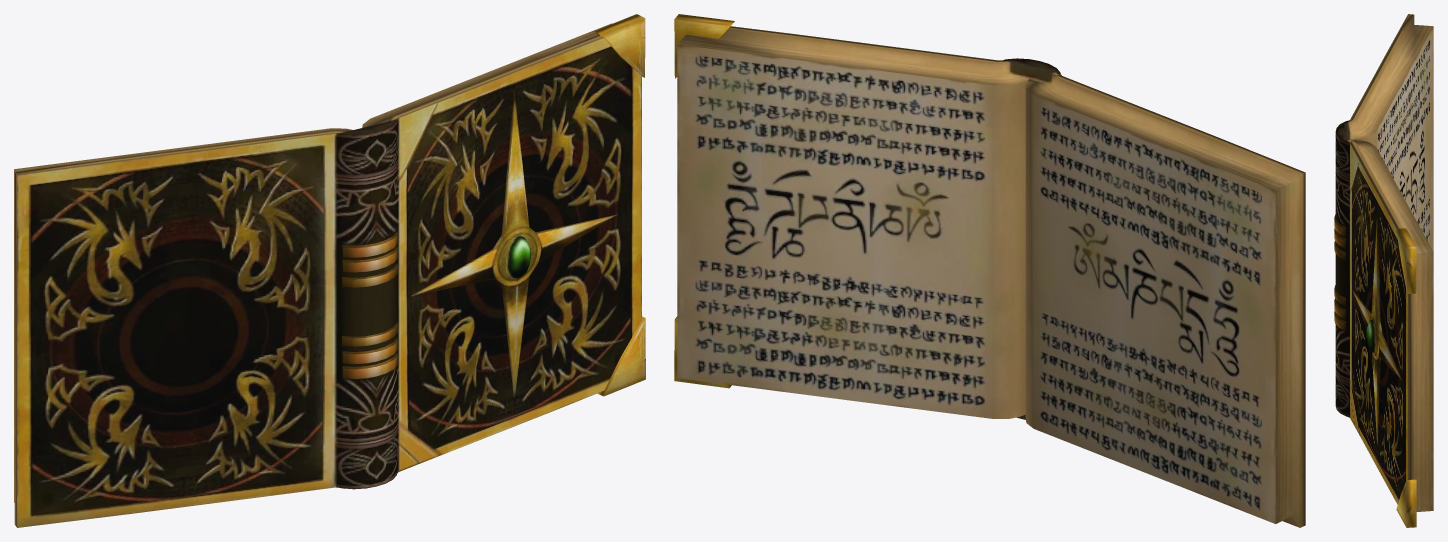
File: card_goldheart_tome.glb
3 renders of one model, left to right at view 1: azimuth 30°, elevation 25°; view 2: azimuth 150°, elevation 25°; view 3: azimuth 270°, elevation 25°, orthographic. The views are drawn at different scales.
Parts seen in each view (by area): view 1: card_goldheart_tome; view 2: card_goldheart_tome; view 3: card_goldheart_tome.
Boxes of the visible parts, x1,y1,x2,y2 form: card_goldheart_tome: [14, 14, 645, 527]; card_goldheart_tome: [674, 14, 1305, 527]; card_goldheart_tome: [1334, 14, 1433, 527].
Bounding box in the file's own units: 0.5143 × 0.2834 × 0.0911.
1 material, 1 textured.
